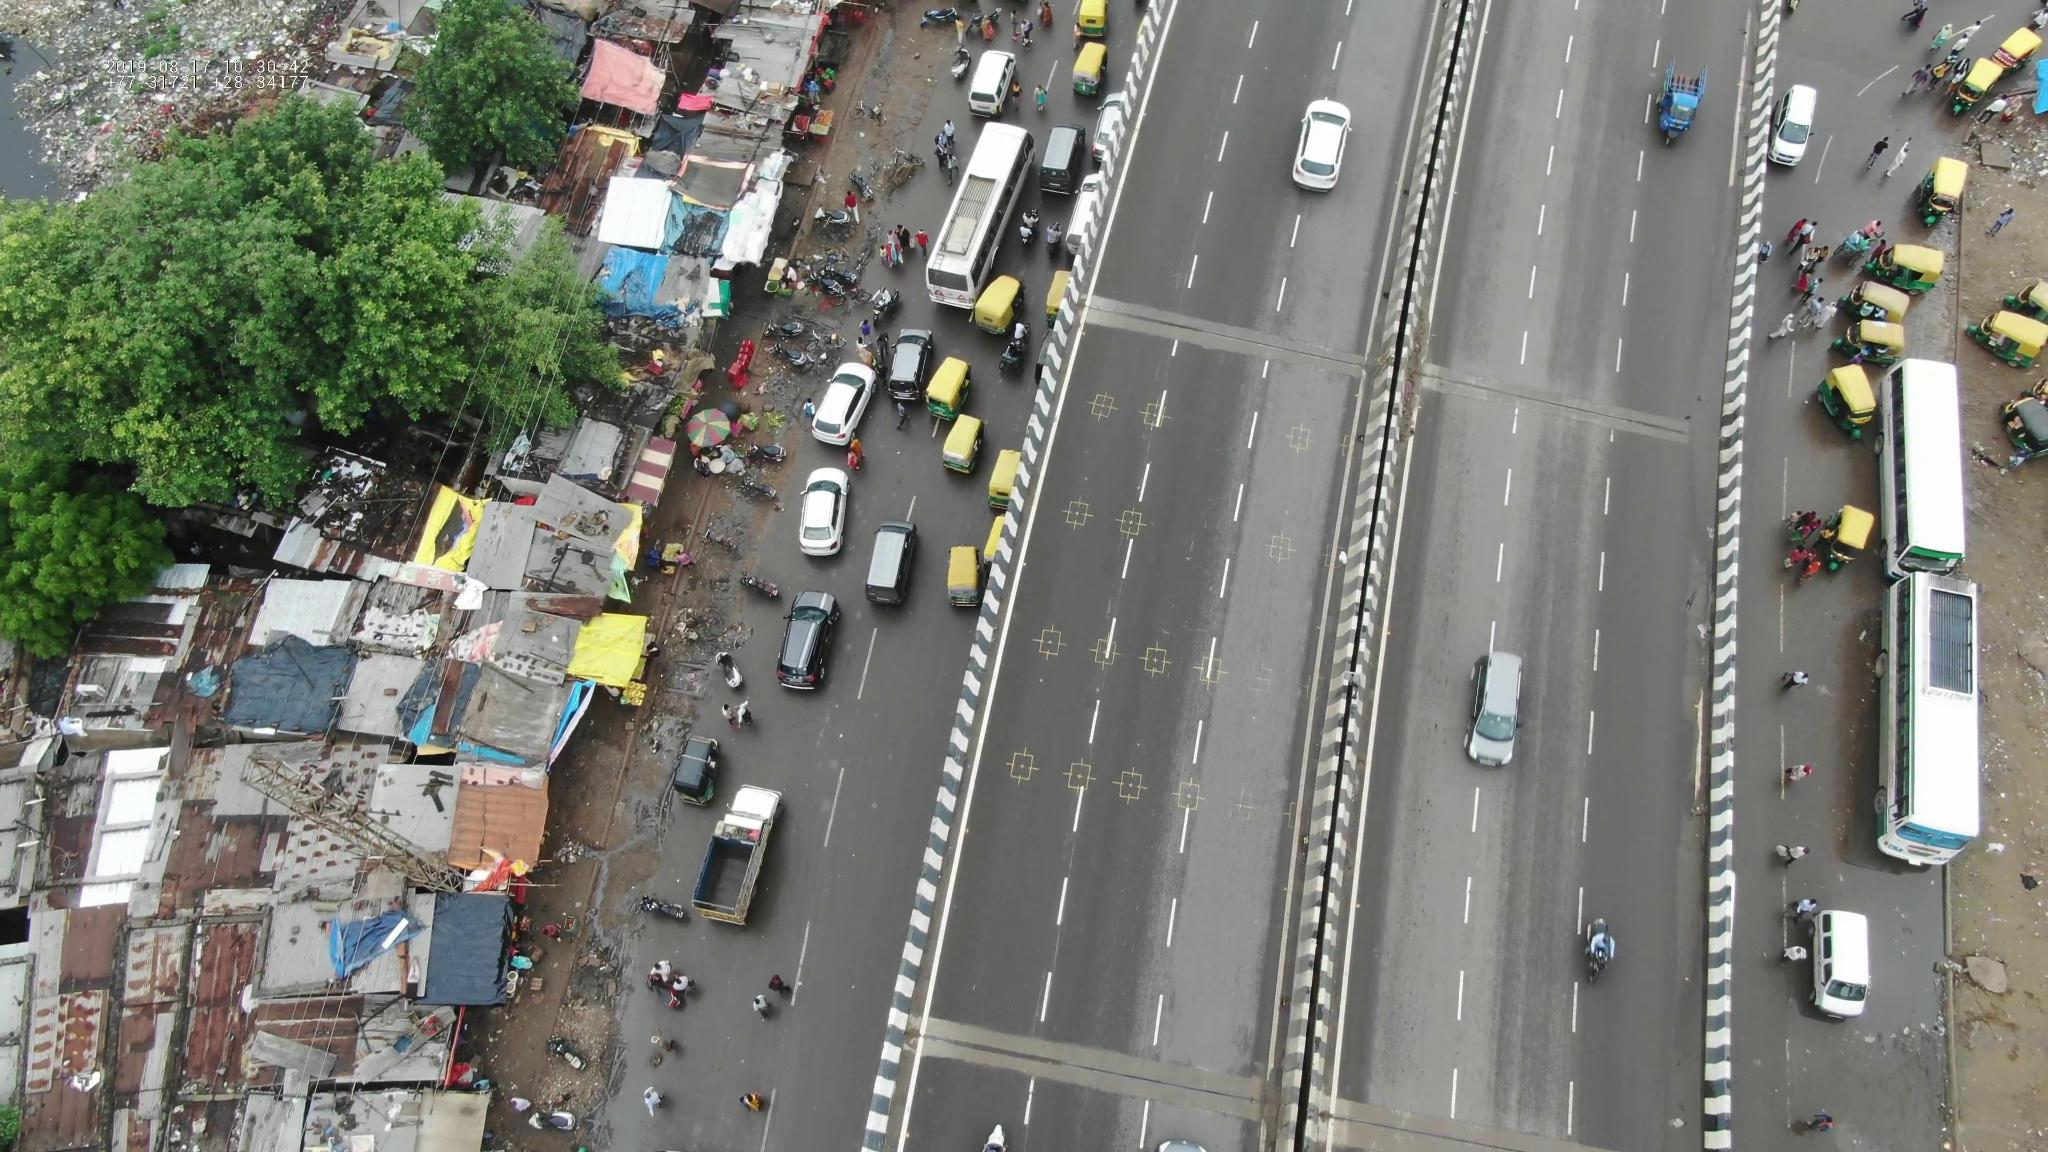Potholes: (800, 715, 848, 807)
